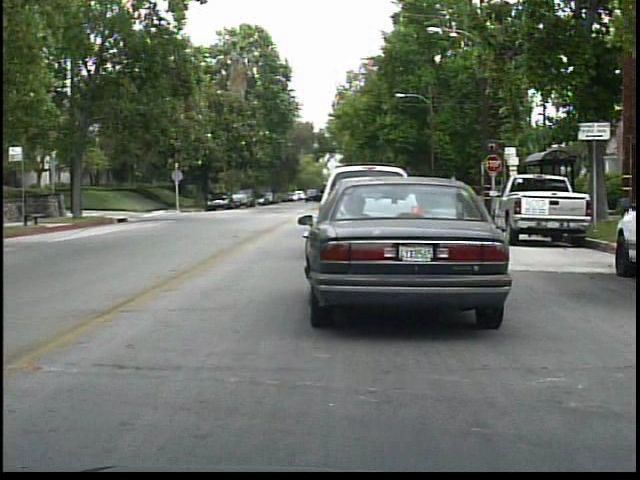person: (220, 181, 236, 207)
